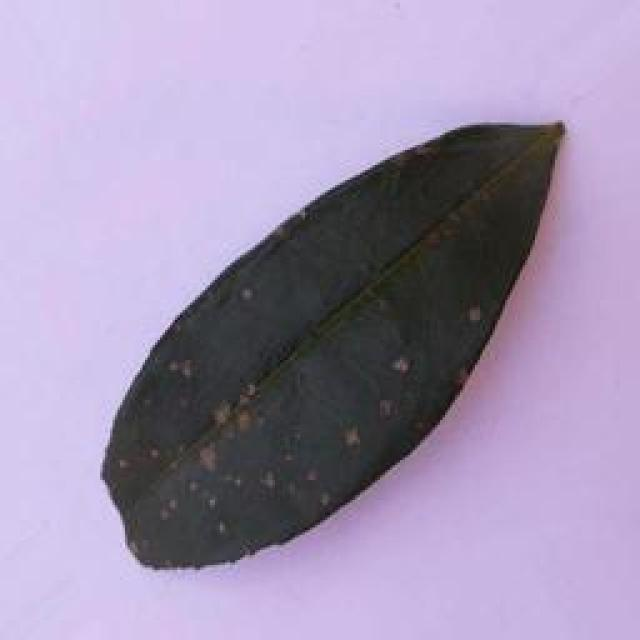Algal Leaf Spot: (95, 108, 567, 569)
